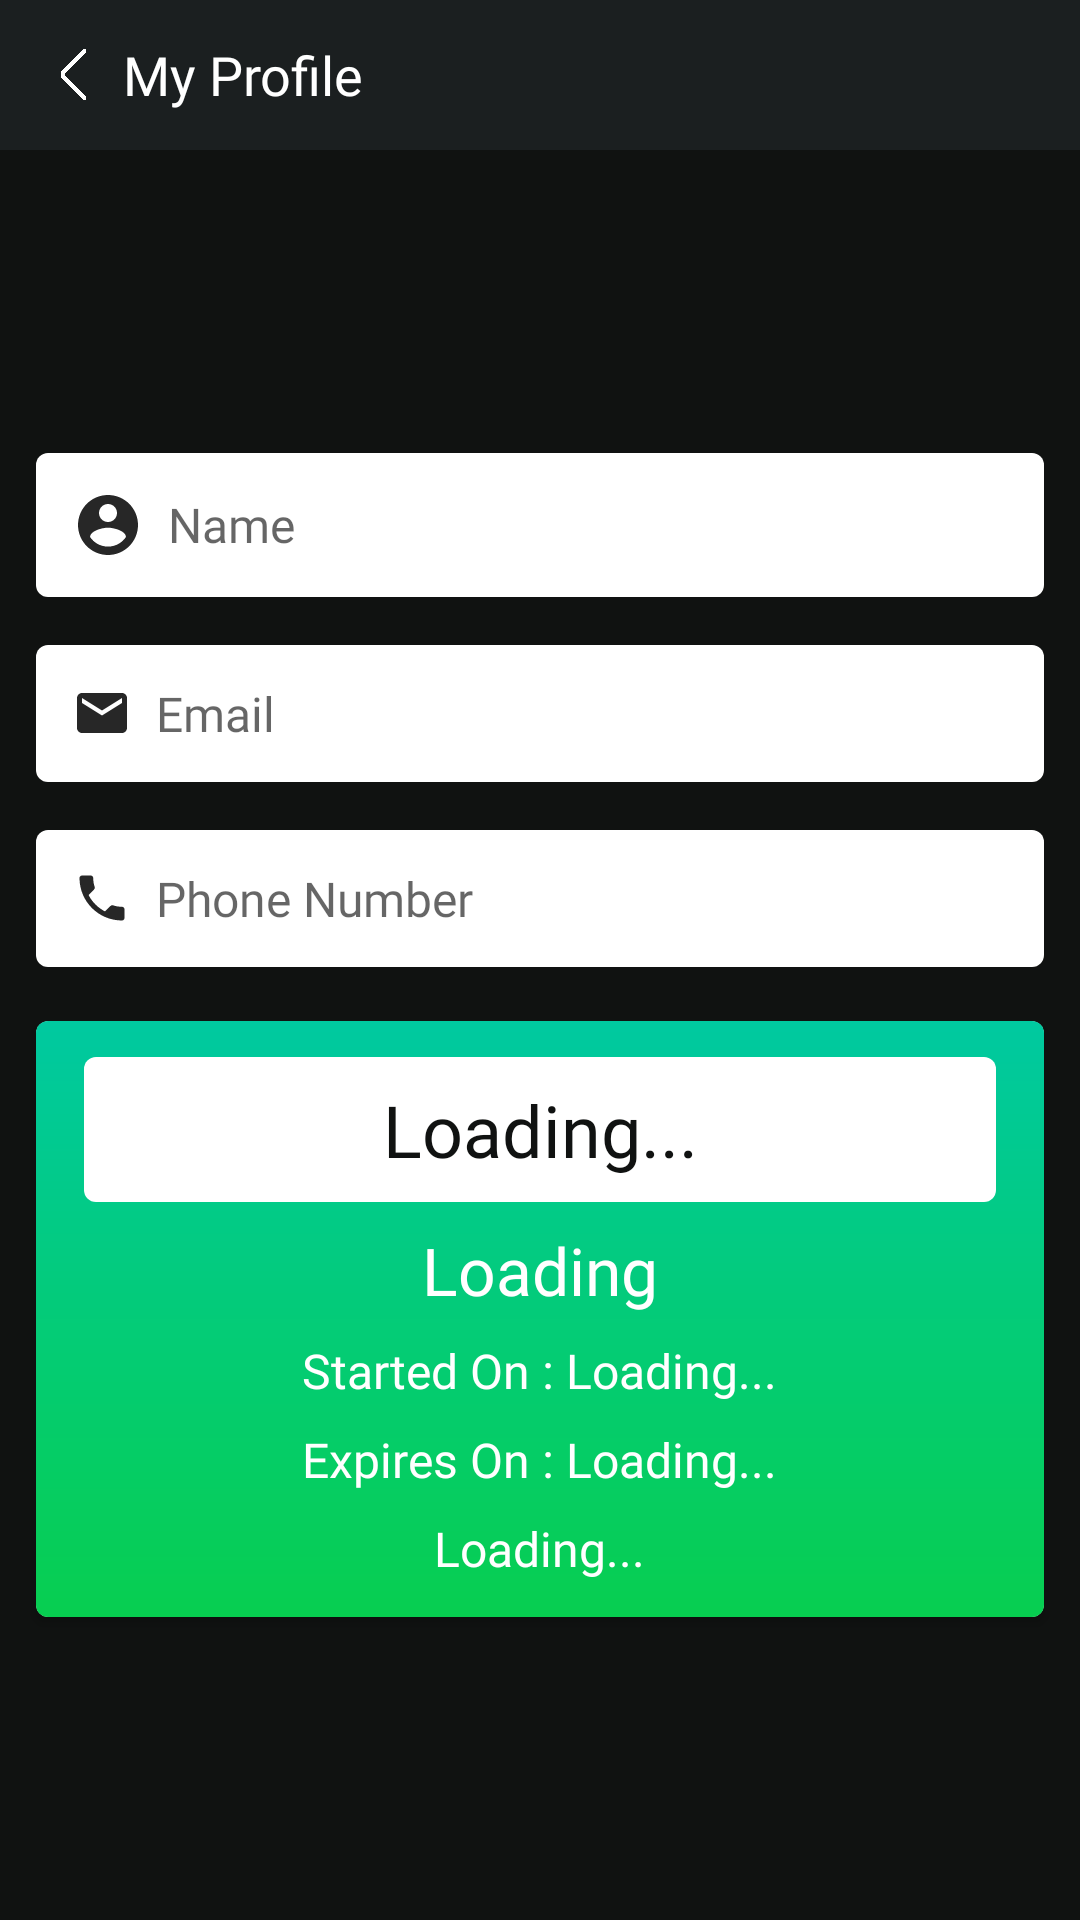

Locate icon controls on the screen. Image size 1080 x 1920, boxes as bbox=(x1, y1, x2, y2).
back: bbox=(61, 49, 86, 100)
